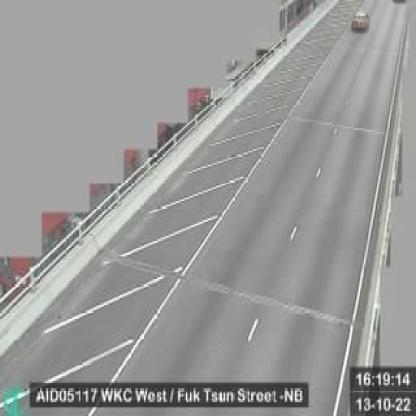Car: (352, 12, 369, 31)
